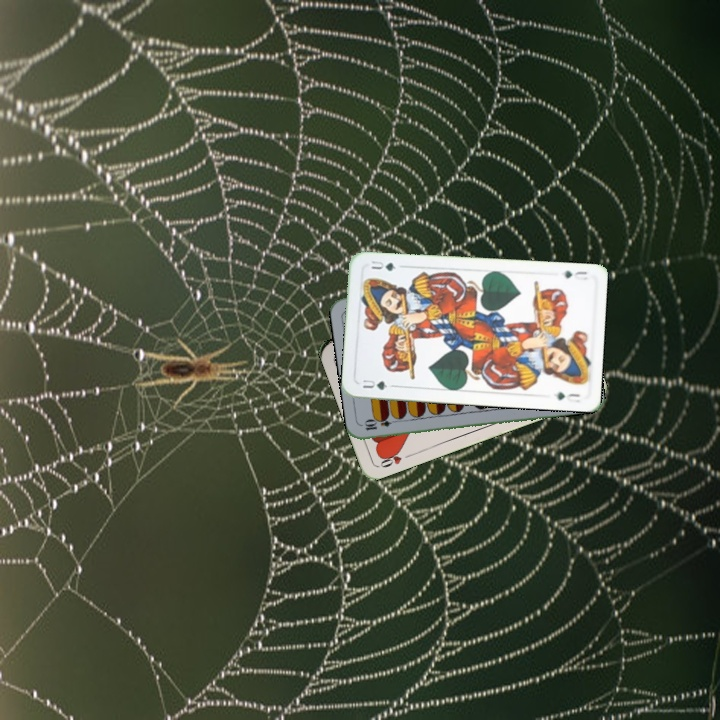E10: (360, 415, 401, 433)
GU: (357, 375, 396, 392), (560, 267, 590, 283)
HO: (375, 446, 414, 470)
